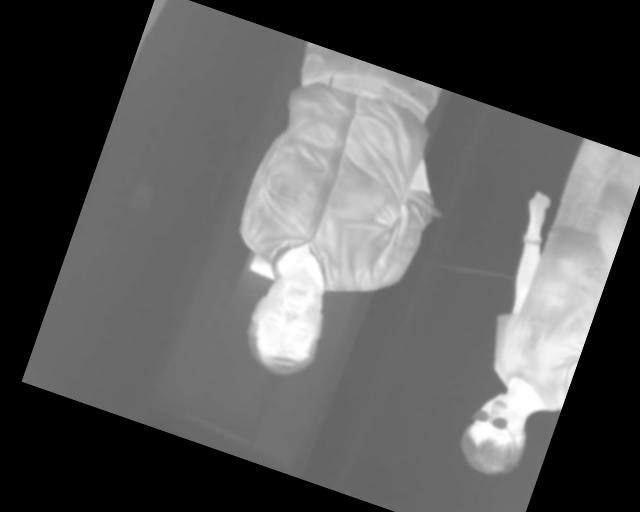face: (234, 260, 341, 385), (450, 383, 540, 484)
